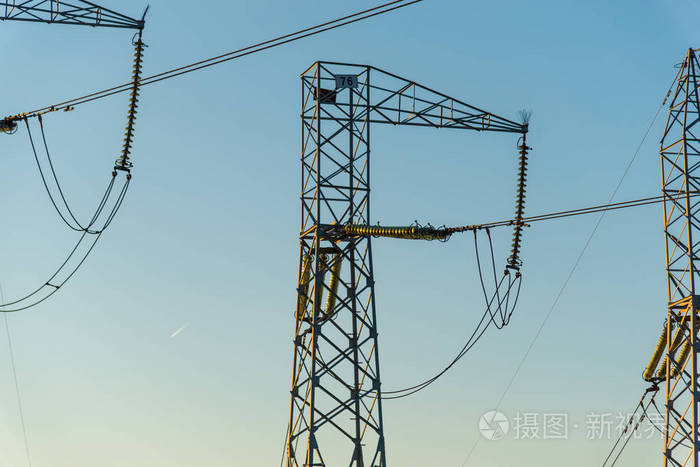insulator: (119, 39, 142, 169), (508, 143, 531, 264), (345, 224, 424, 241)
